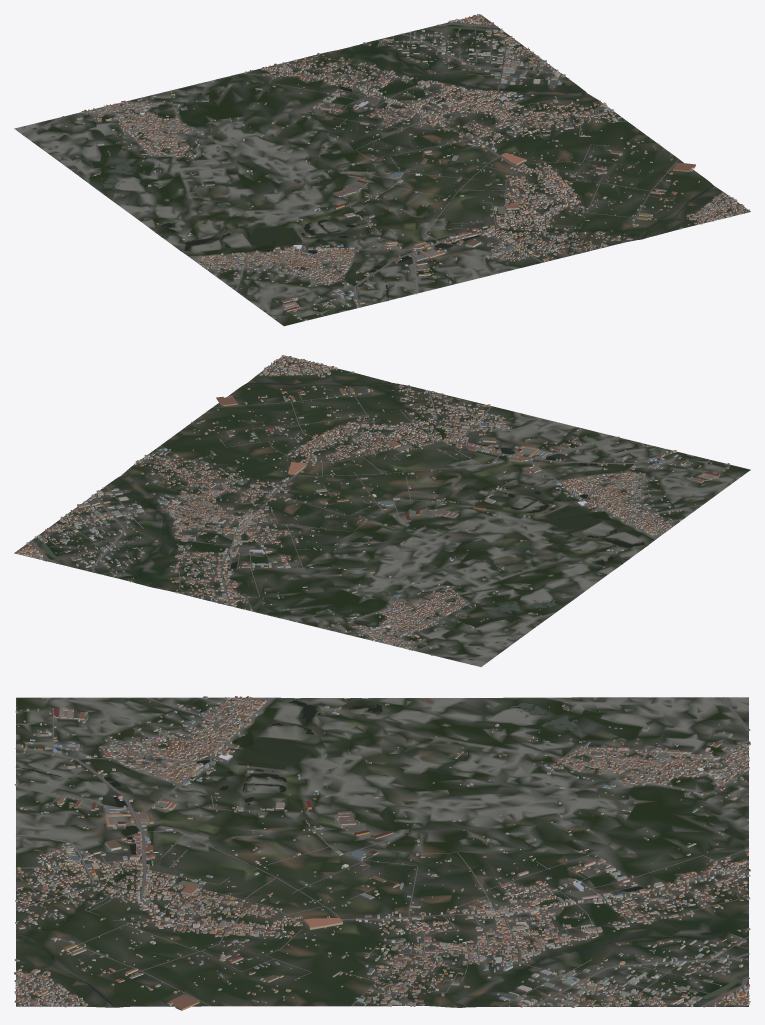
The picture shows the model from 3 angles, top to bottom: view 1: azimuth 30°, elevation 25°; view 2: azimuth 150°, elevation 25°; view 3: azimuth 270°, elevation 25°; orthographic projection. The views are drawn at different scales.
Parts seen in each view (by area): view 1: ground, buildings, roads, water; view 2: ground, buildings, roads, water; view 3: ground, buildings, roads, water.
Part boxes in pixels (box(x1,y1,x2,y2)): ground: box(14, 14, 750, 326); buildings: box(65, 14, 749, 320); roads: box(23, 17, 738, 320); water: box(103, 26, 712, 300); ground: box(14, 355, 750, 666); buildings: box(16, 355, 739, 650); roads: box(17, 359, 737, 660); water: box(41, 382, 646, 615); ground: box(16, 697, 748, 1007); buildings: box(14, 696, 750, 1010); roads: box(15, 697, 750, 1007); water: box(16, 698, 745, 1005).
Size of the model in its own units: 2843 by 28.29 by 2819.
